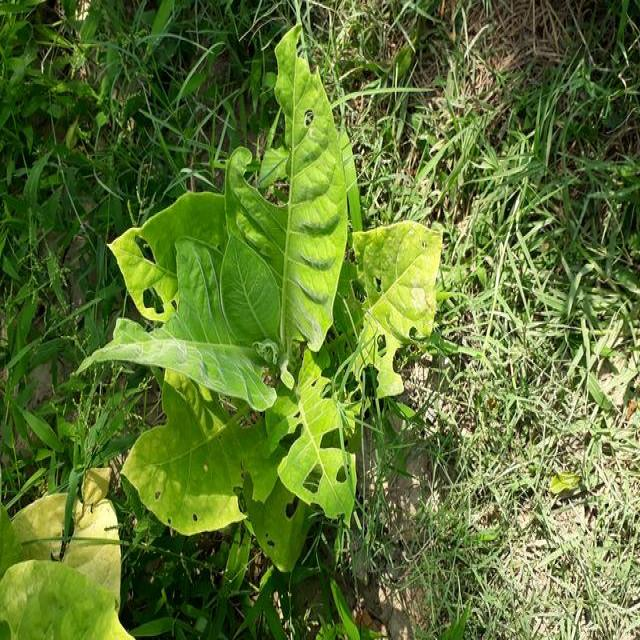crop: (81, 31, 447, 566)
